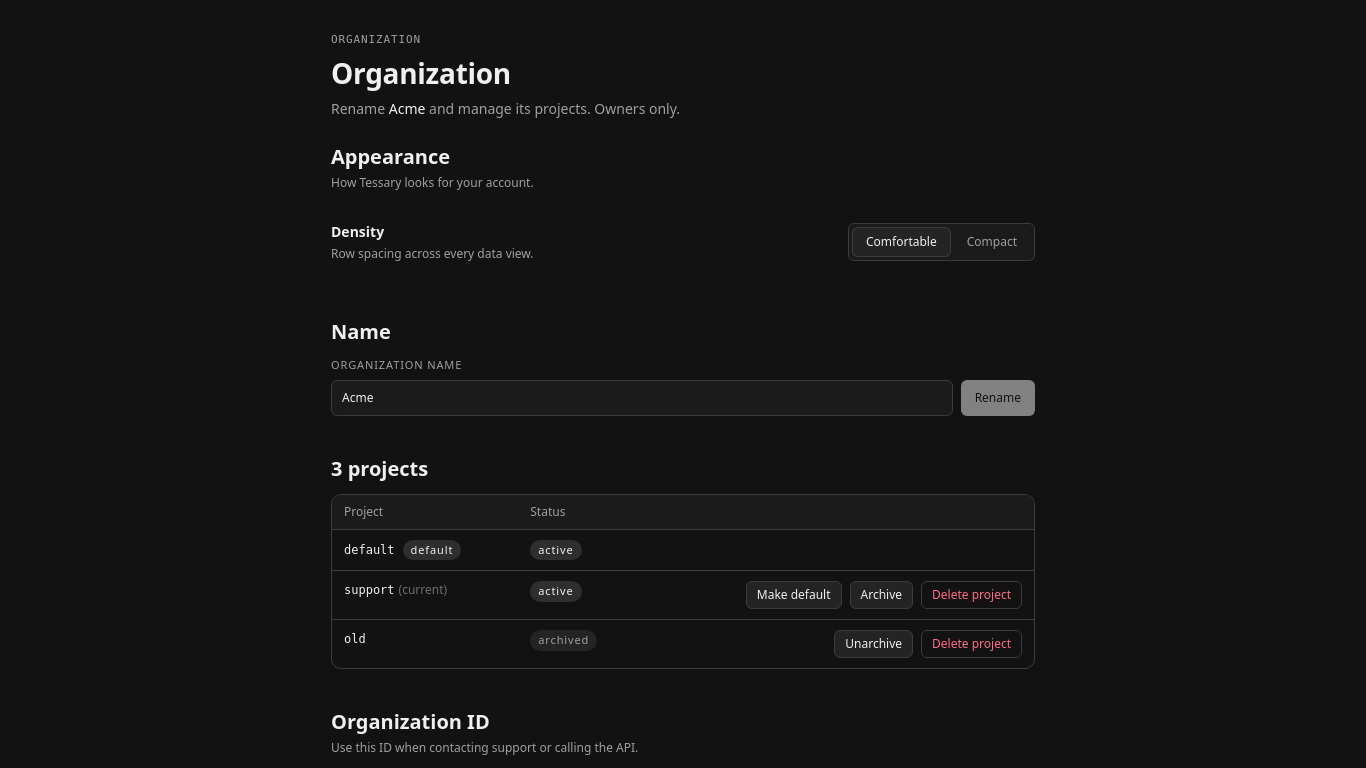
Test case: project lifecycle › asks in the page rather than through the browser's blocking confirm, and deletes only on Delete project
This screenshot has width=1366, height=768.
Step 1. Click the button "Delete project" in the row of "old" → (972, 644), box [921,630,1022,658]
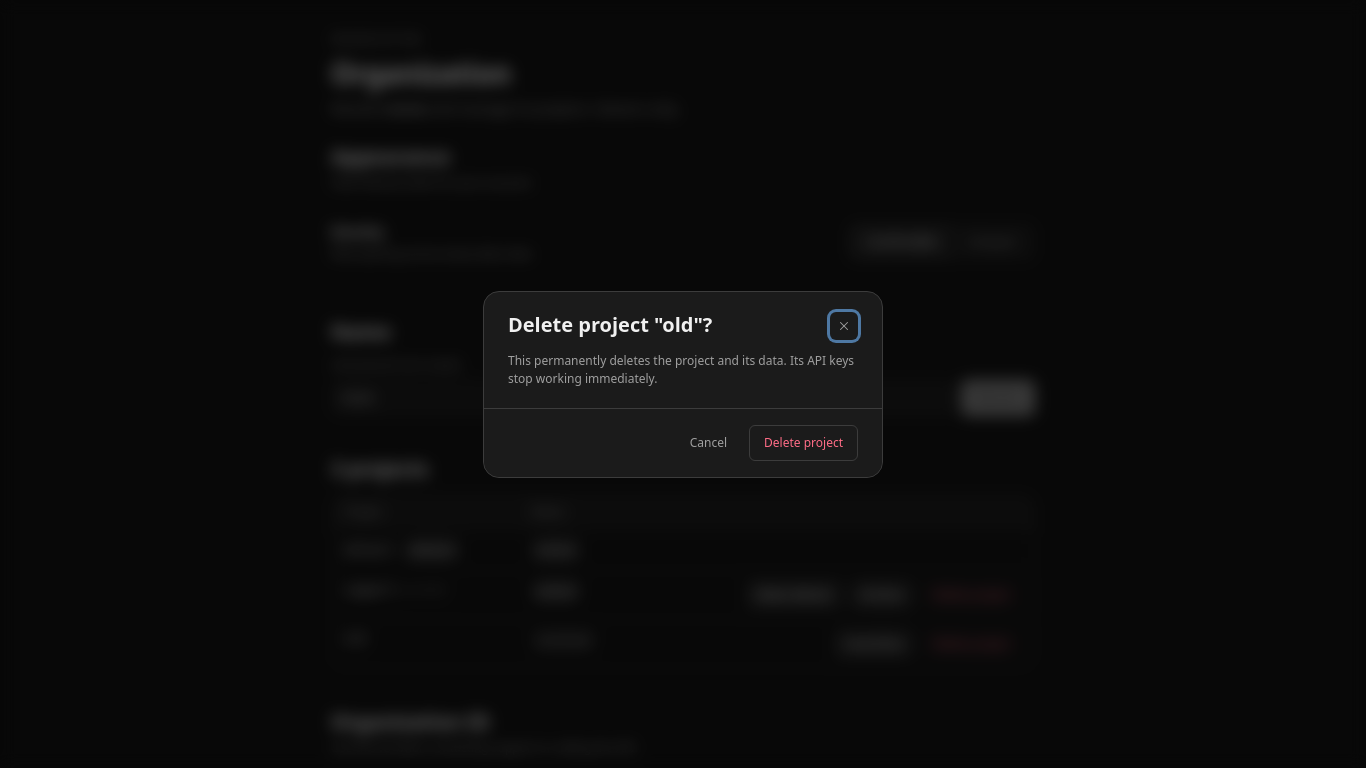
Now the heading "Delete project \"old\"?" is shown, box [508,312,712,338]
Step 2. Click the button "Cancel" → (708, 442), box [676,424,741,460]
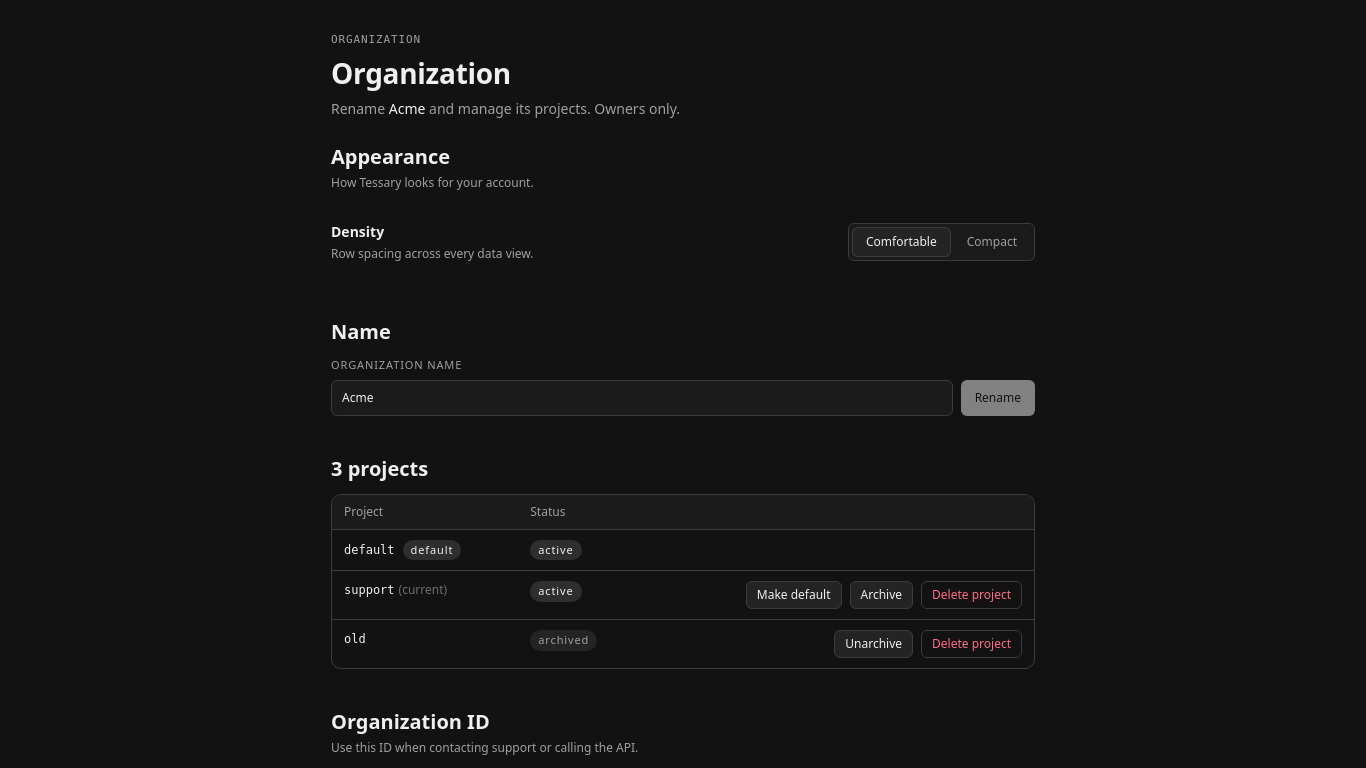
Now the dialog is gone
Step 3. Click the button "Delete project" in the row of "old" → (972, 644), box [921,630,1022,658]
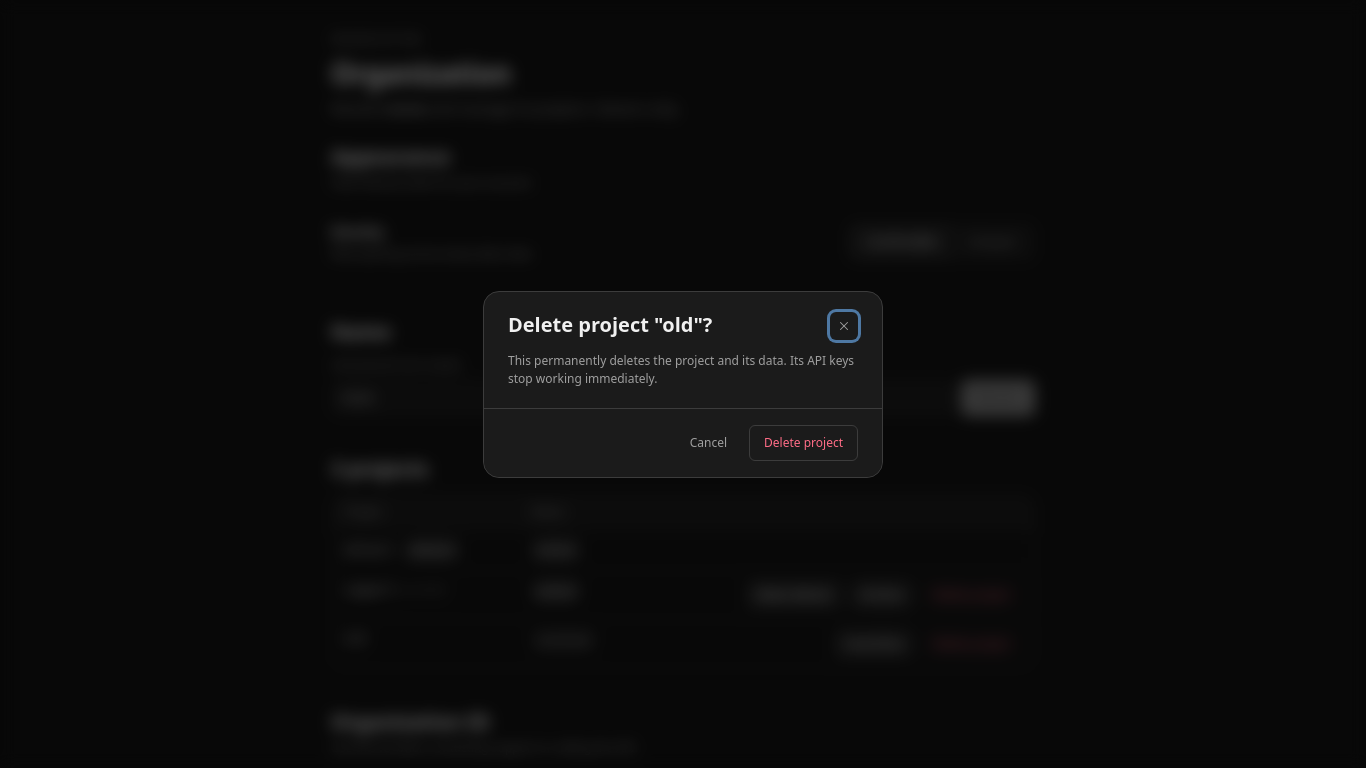
Step 4. Click the button named "Close" → (844, 326), box [830,312,858,340]
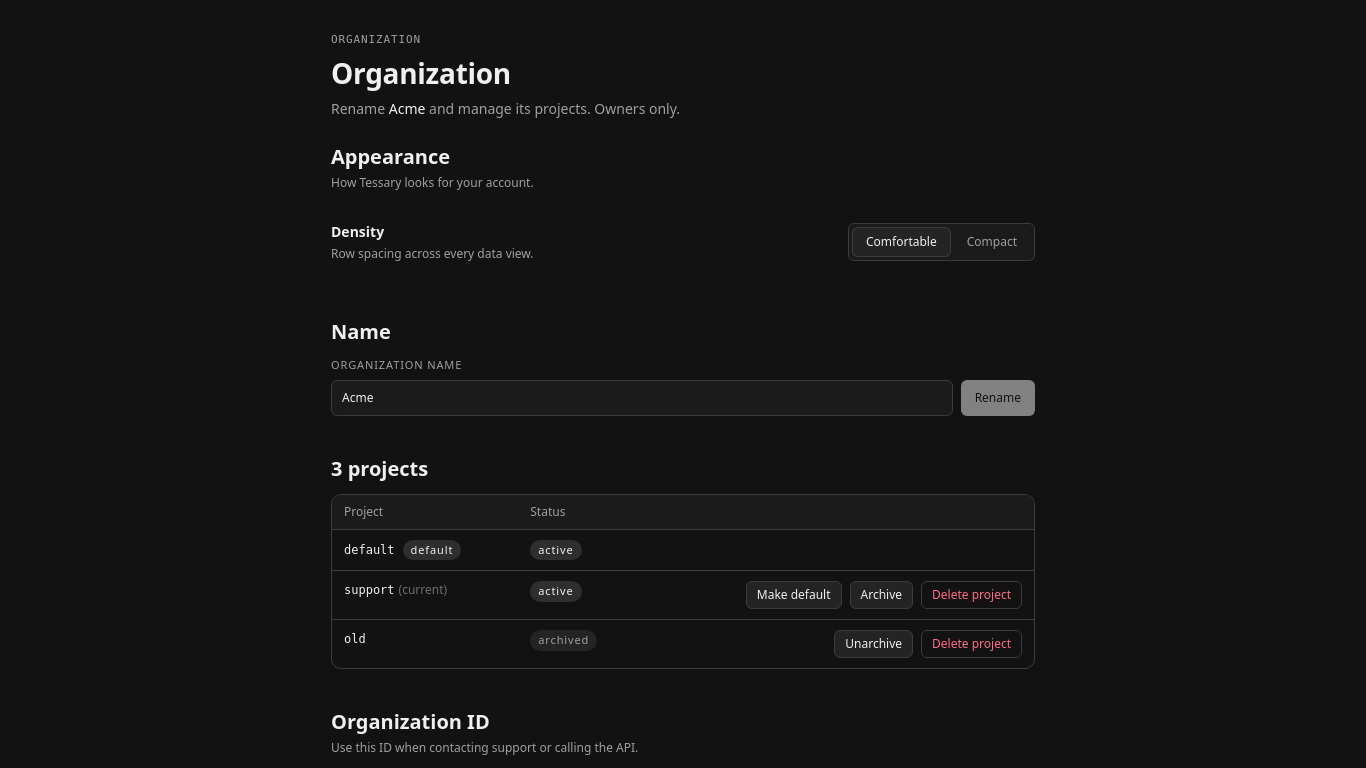
Now the dialog is gone
Step 5. Click the button "Delete project" in the row of "old" → (972, 644), box [921,630,1022,658]
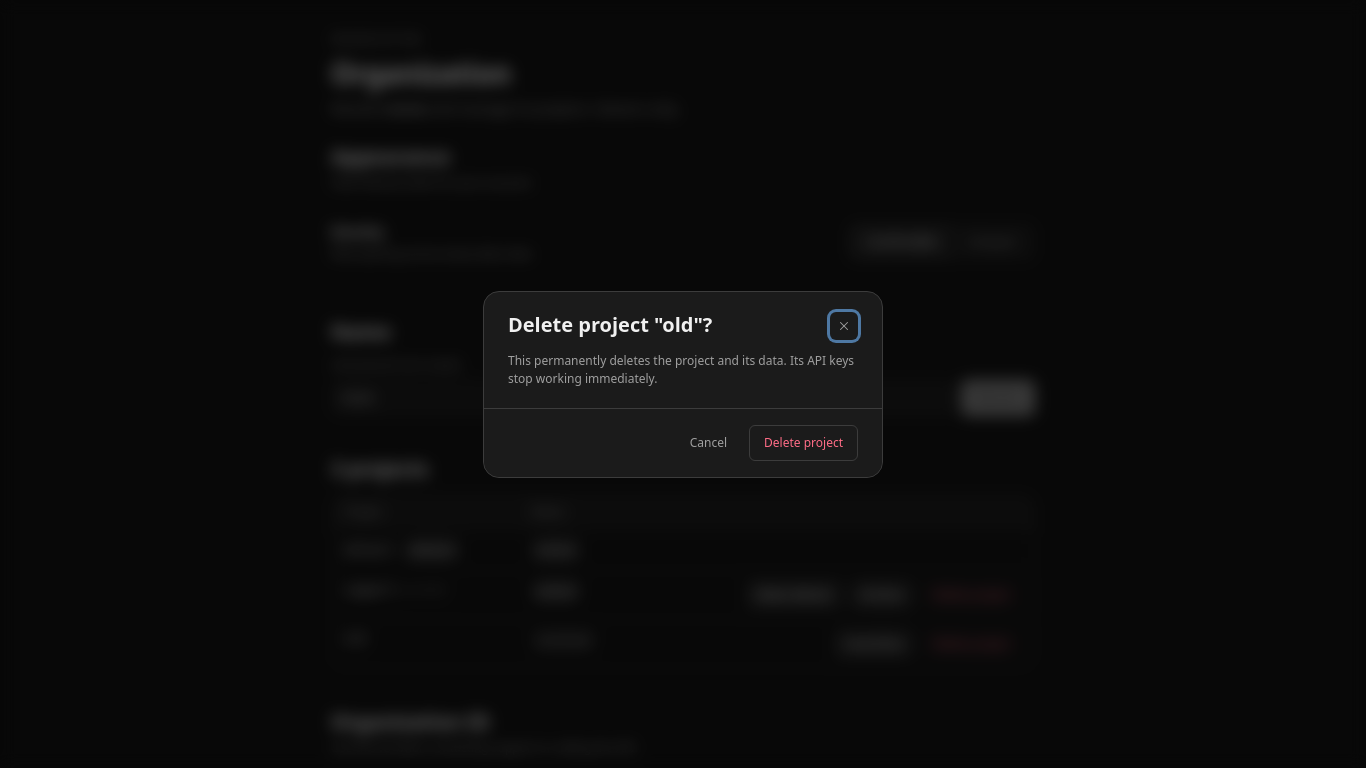
Step 6. Click the button "Delete project" → (804, 442), box [749,424,858,460]
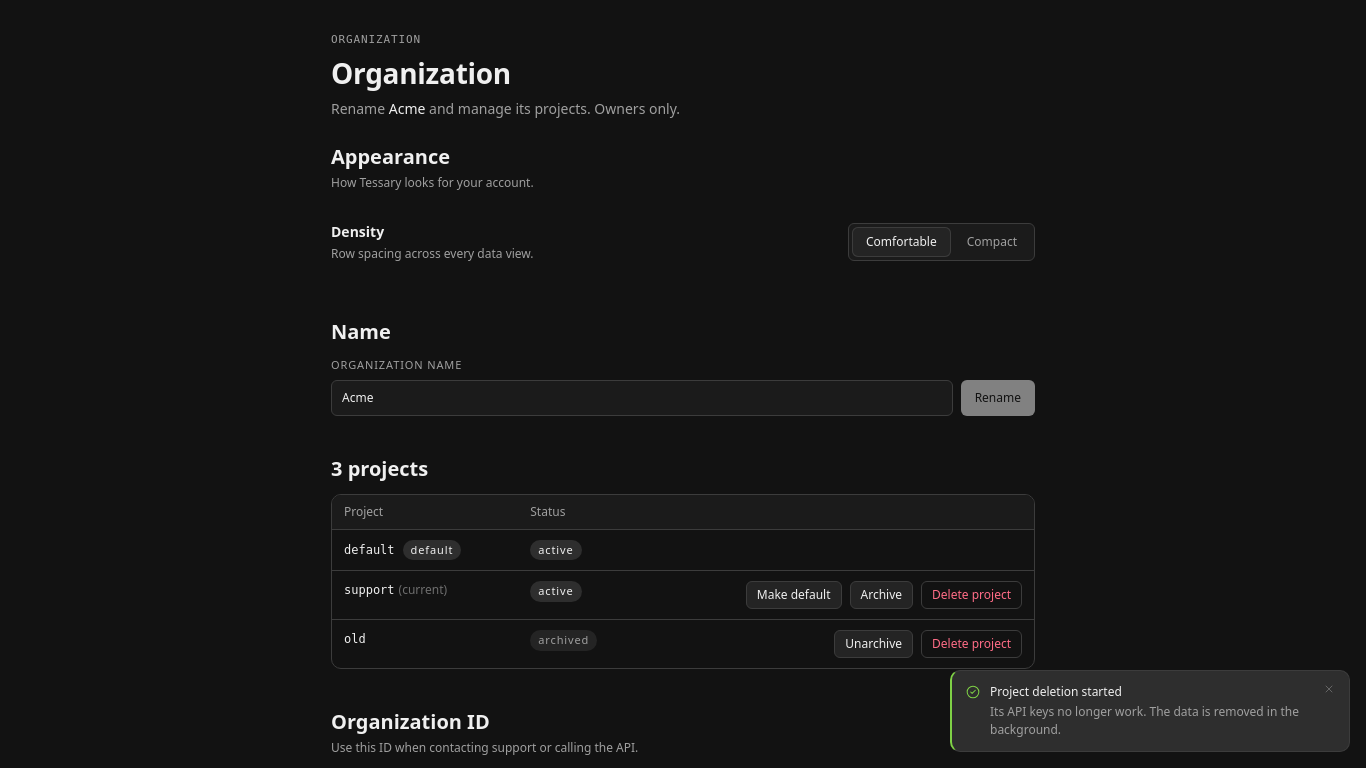
Now the text "Project deletion started" is shown, box [990,683,1122,700]
Now the dialog is gone
